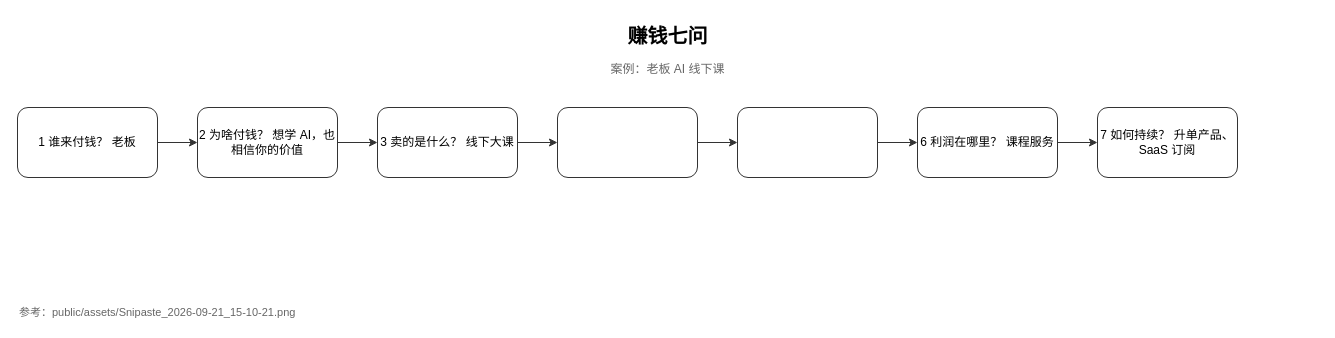
Image size: 1335x338. Some labels were removed from this diagram. The centre of each missing label's shape, as x and y in pixels:
"4 怎么收钱？ 一次性对公打款" belongs at [627,142].
"5 怎么交付？ 集中上课服务" belongs at [807,142].
